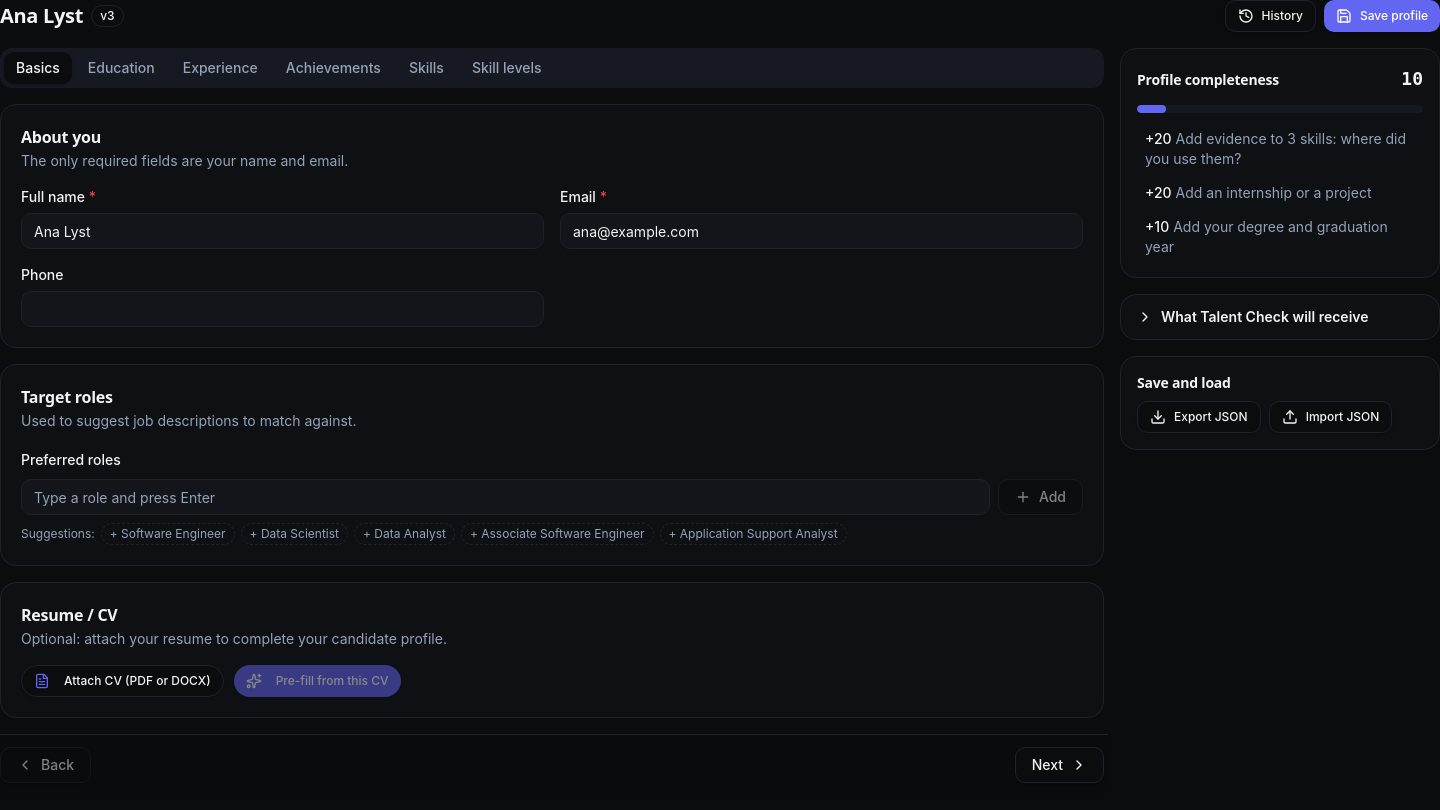
it: ProfileBuilder: editing a saved profile › loads it, saves with the version, and shows the conflict dialog on 412
Check: the text "v3" is shown, box 91,5 -> 124,27
Type " Edited" into the field labelled "Full name *" at (282, 231), box 21,213 -> 544,249
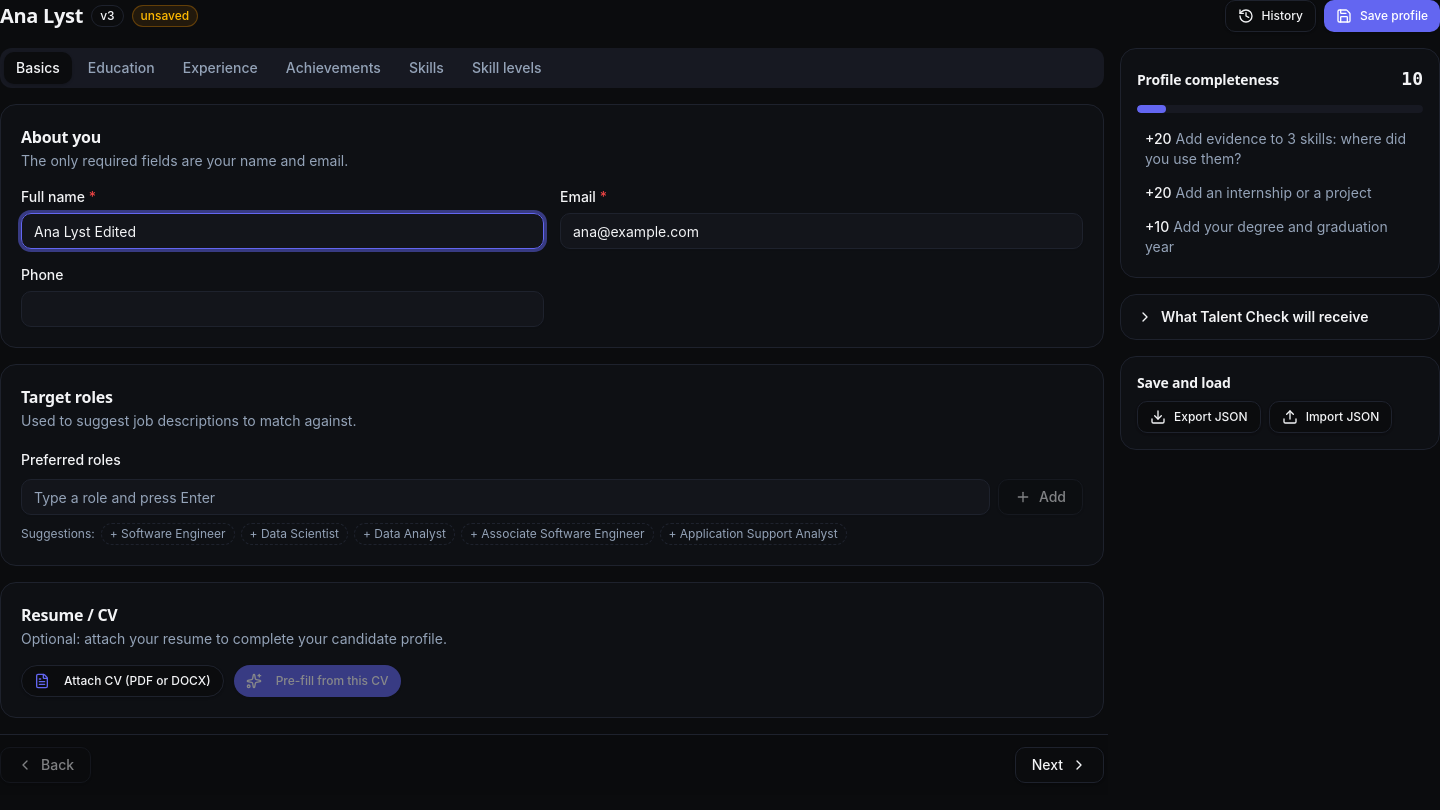
Click the button "Save profile" at (1382, 16), box 1324,0 -> 1439,32
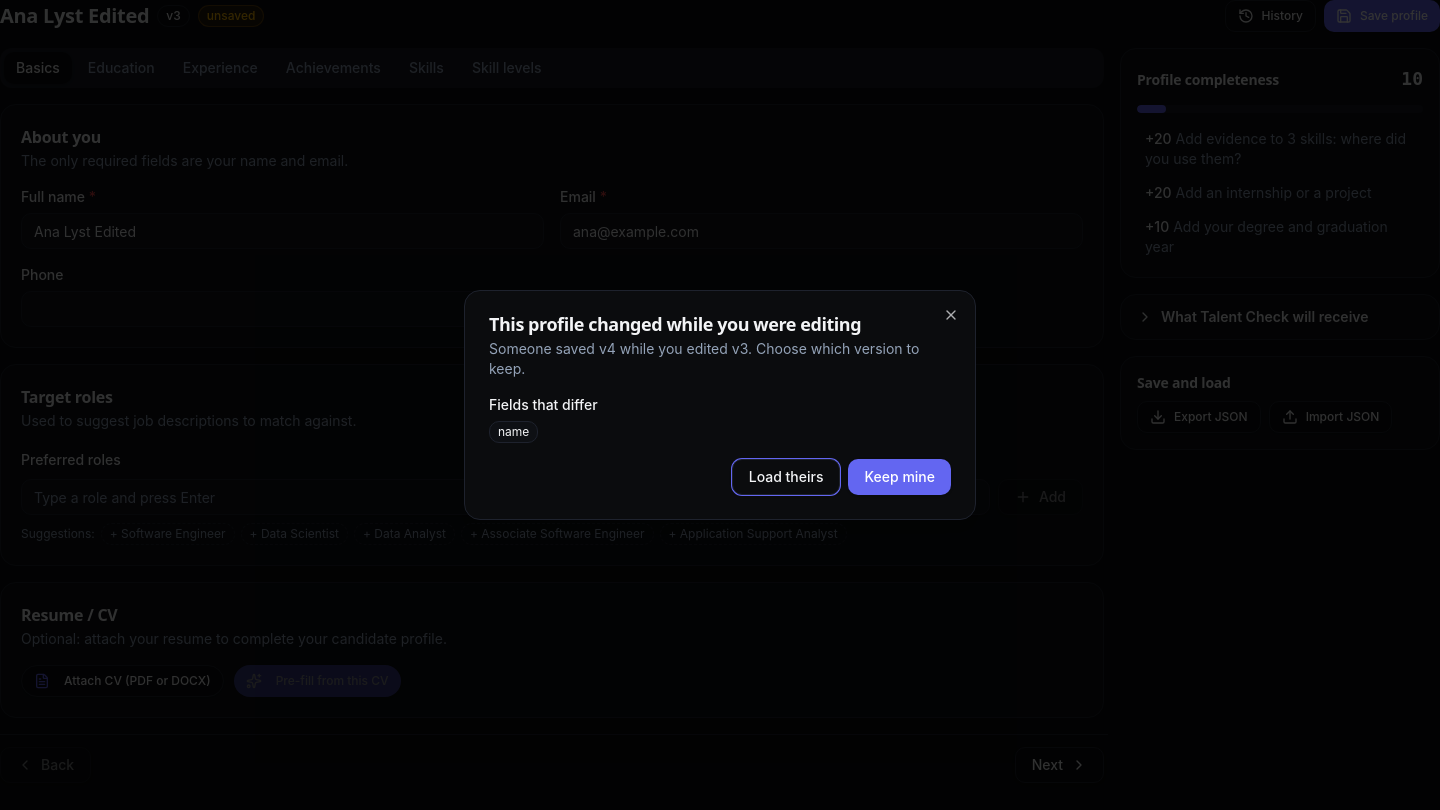
Check: the text "Someone saved v4 while you edited v3" is shown, box 489,339 -> 951,379
Check: the list with test id "conflict-fields" reads "name", box 498,424 -> 529,439
Click the button "Load theirs" at (786, 477), box 732,459 -> 840,495
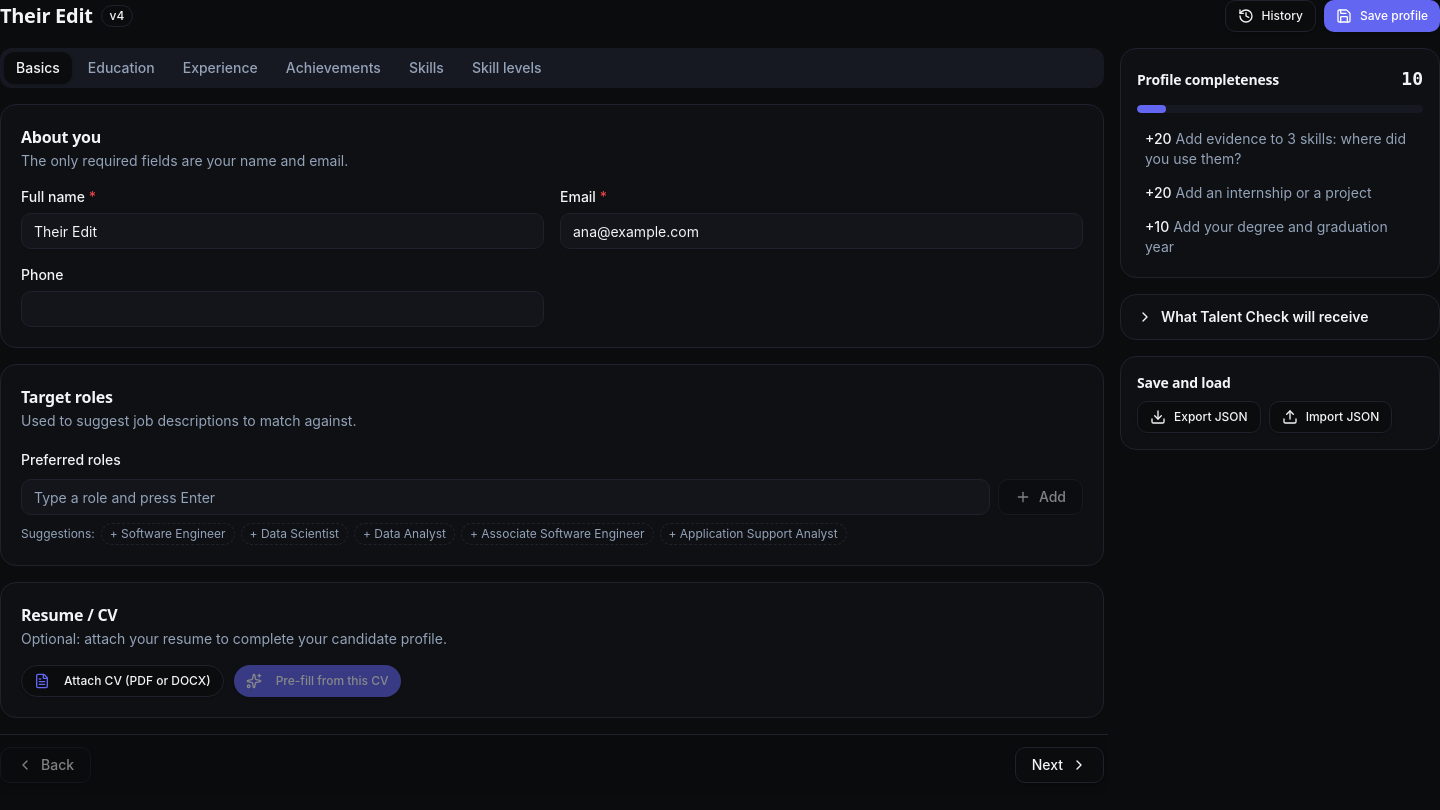
Check: the field labelled "Full name *" holds "Their Edit", box 21,213 -> 544,249
